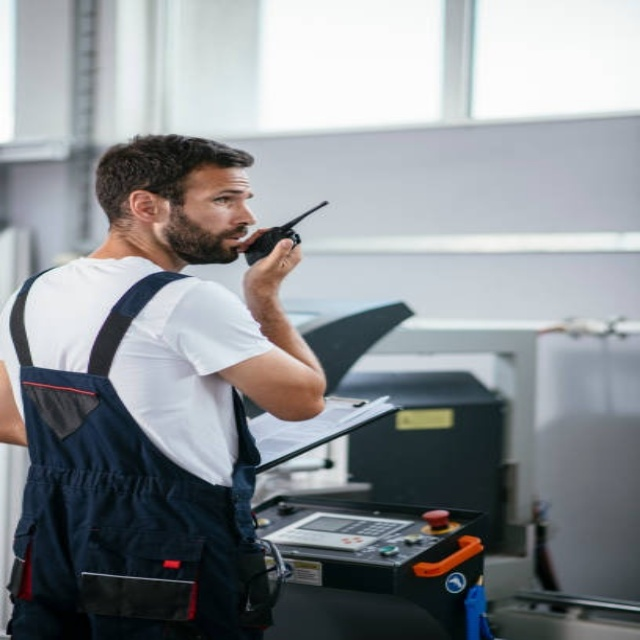Sin_gafas: (193, 185, 257, 210)
Sin_guantes: (242, 236, 309, 287)
Sin_mascara: (198, 225, 245, 261)
